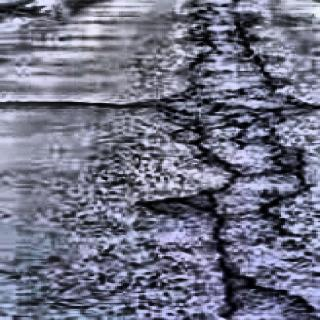alligator-crack: (138, 0, 320, 320), (0, 0, 45, 24)
crack: (0, 95, 152, 113)
